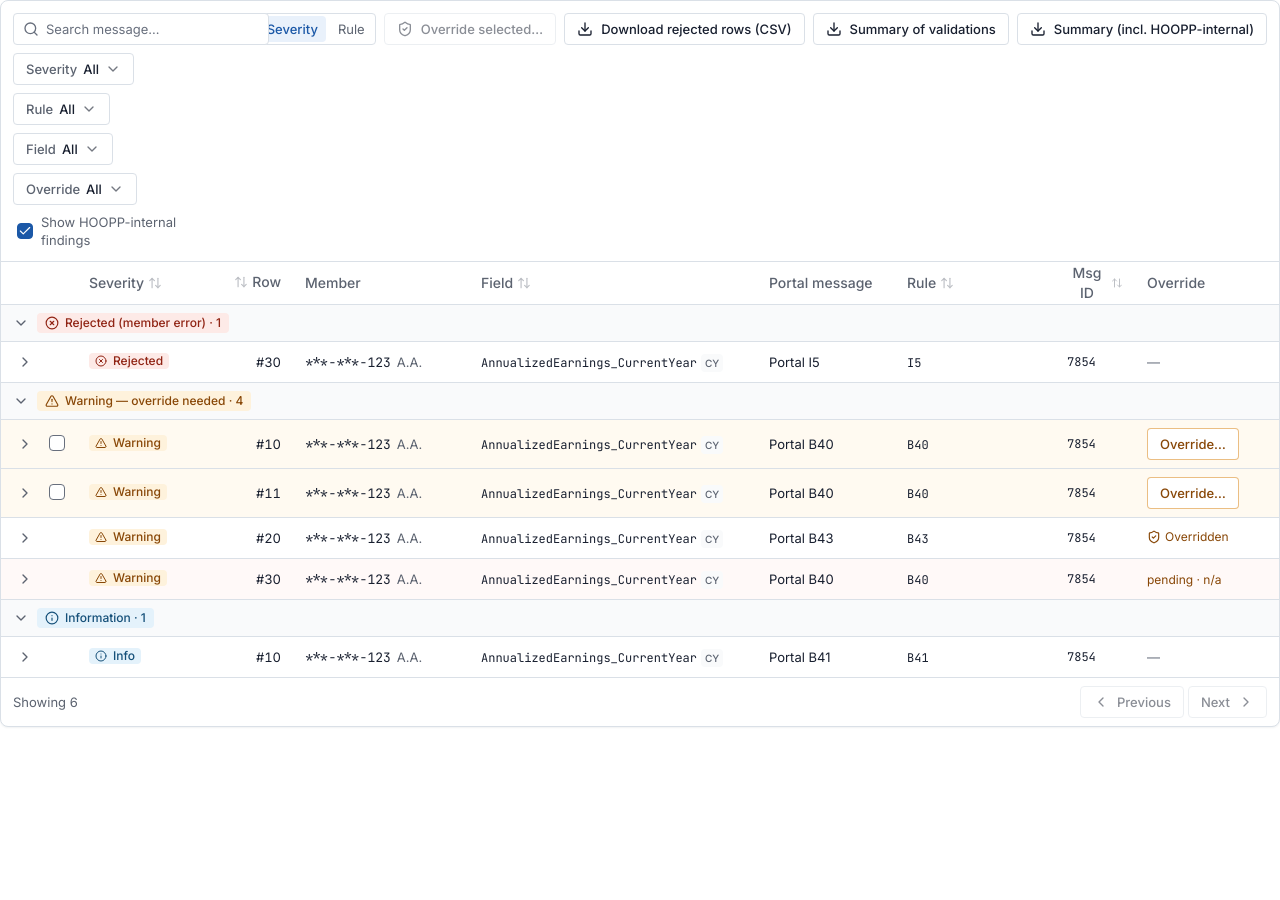
Test case: FindingsView HELD / overridden states (ux 5.4.2, D6, GAP-OVR-1) › expanding an overridden finding shows the amber strip with reason, note, actor, time and ledger link
Click the row with test id "finding-row-done" at {"x": 640, "y": 538}, box left=1, top=518, right=1279, bottom=558
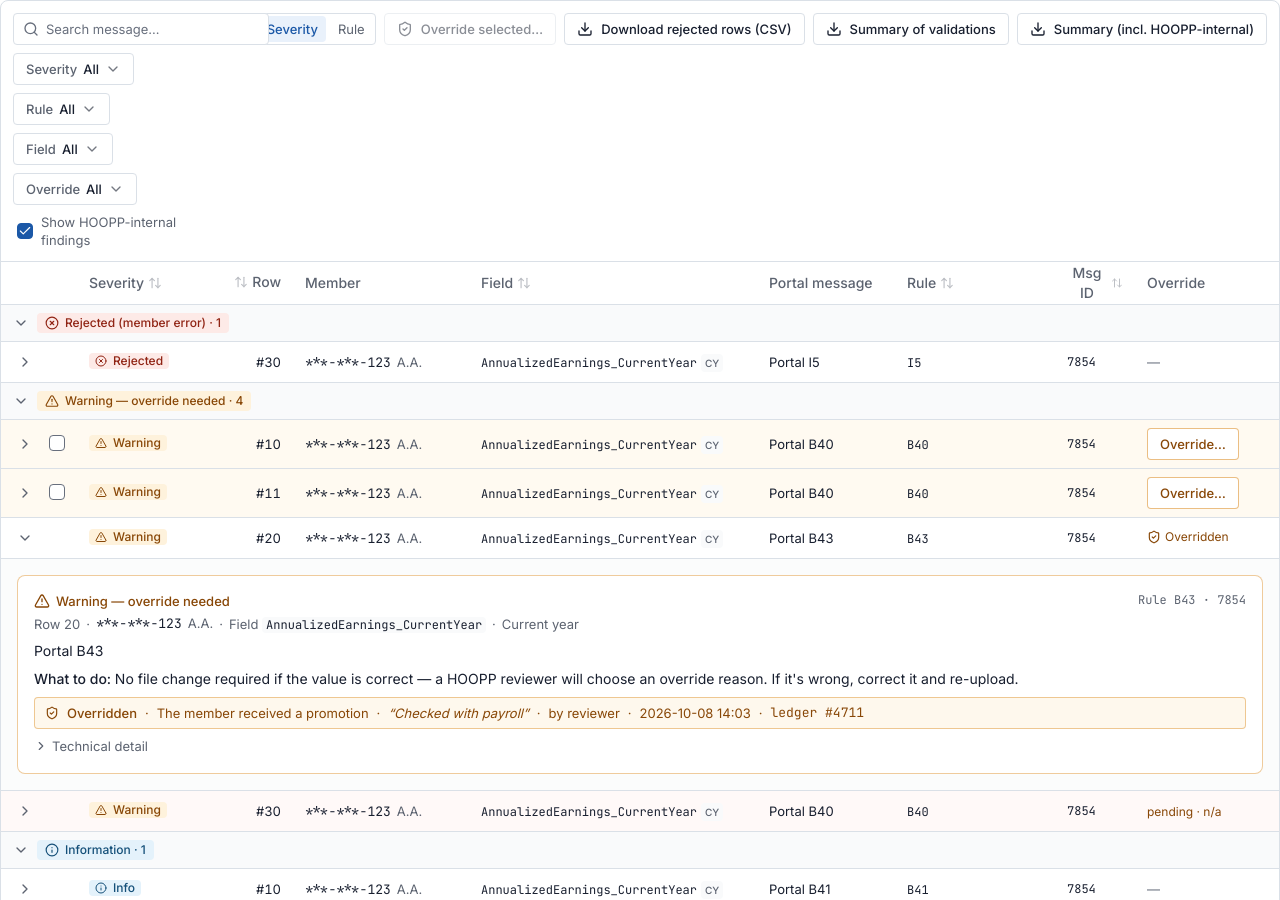
expect the element with test id "override-strip-done" shows "Overridden": met, box left=67, top=705, right=137, bottom=721
expect the element with test id "override-strip-done" shows "The member received a promotion": met, box left=157, top=705, right=369, bottom=721
expect the element with test id "override-strip-done" shows "Checked with payroll": met, box left=394, top=705, right=523, bottom=721
